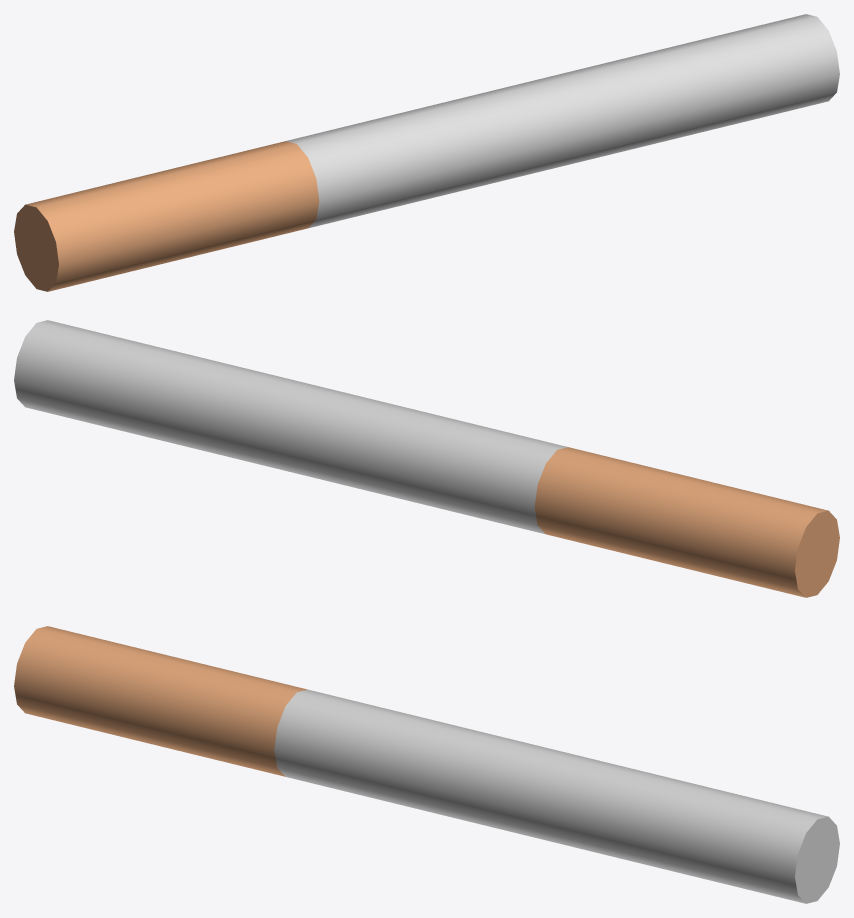
File: cigarette_notexture.fbx
3 views of the same model, one above another, from view 1: azimuth 30°, elevation 25°; view 2: azimuth 150°, elevation 25°; view 3: azimuth 330°, elevation 25° (orthographic).
Parts seen in each view (by area): view 1: cigarette; view 2: cigarette; view 3: cigarette.
Part boxes in pixels (left/top/right/bottom): cigarette: left=14, top=14, right=839, bottom=291; cigarette: left=14, top=320, right=839, bottom=597; cigarette: left=14, top=626, right=839, bottom=903.
Size of the model in its own units: 100 by 10 by 10.
